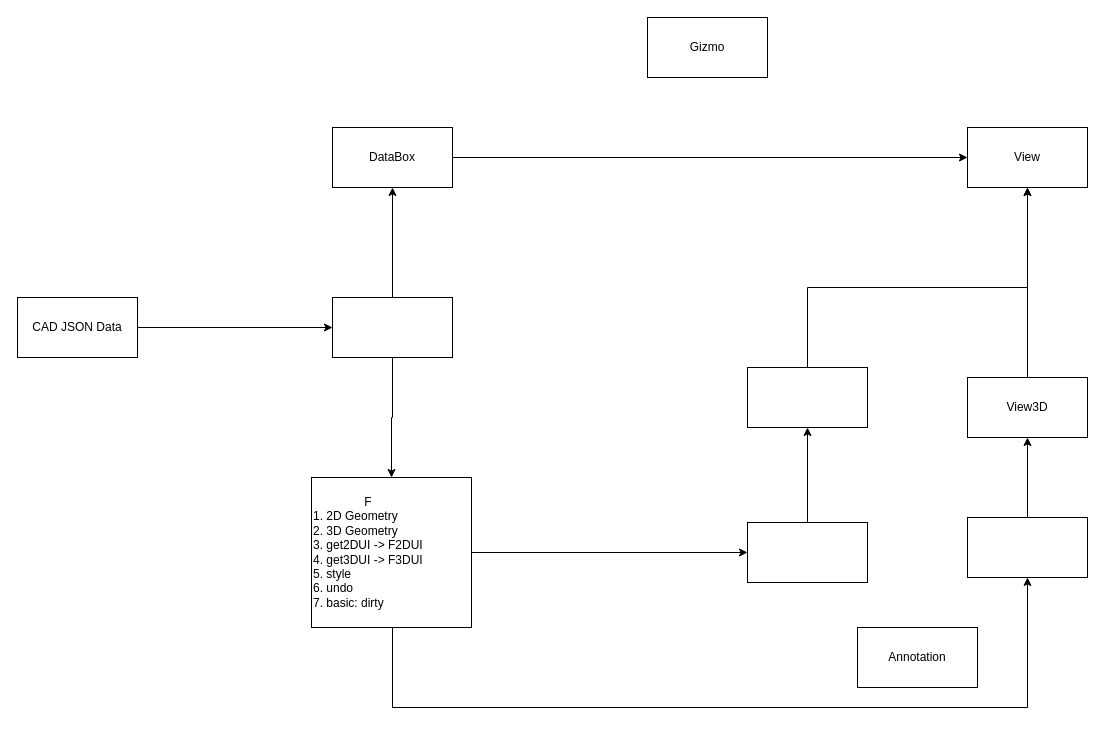
This 1105x733 diagram has some shape labels left out. Each missing label, with the centre of its shape:
DataModel: the point at 392,327
F2DUI (bind.datamodel): the point at 807,552
F3DUI (bind.datamodel): the point at 1027,547
View2D: the point at 807,397
